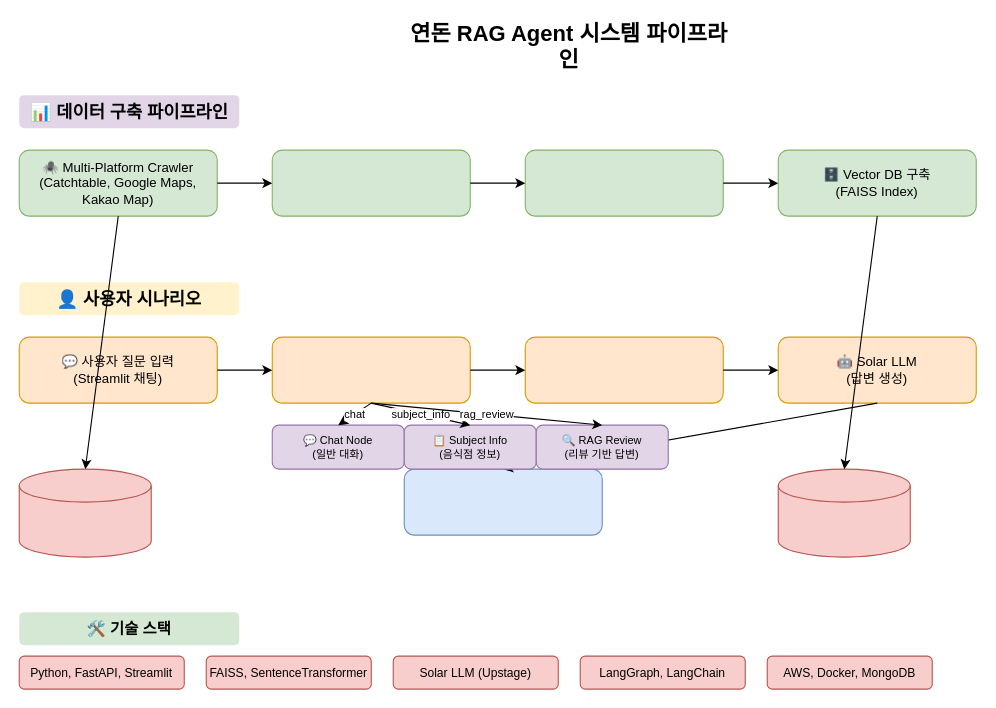
This 996x708 diagram has some shape labels left out. The shapes that lost their labels are listed below. From the top down, each one's centre as x and y in pixels, then its label:
At (x=370, y=182): "🧹 Text Clean & 전처리 (특수문자 제거, 불용어 제거)".
At (x=623, y=182): "🔤 Solar Embedding (Upstage API)".
At (x=370, y=369): "🎯 Intent Router (chat/subject_info/rag_review)".
At (x=623, y=369): "🔍 Review Retrieval (FAISS 검색)".
At (x=84, y=512): "📄 CSV Files (reviews_*.csv)".
At (x=502, y=501): "🖥️ Streamlit Dashboard (실시간 채팅)".
At (x=843, y=512): "🗄️ FAISS Index (faiss.index)".
